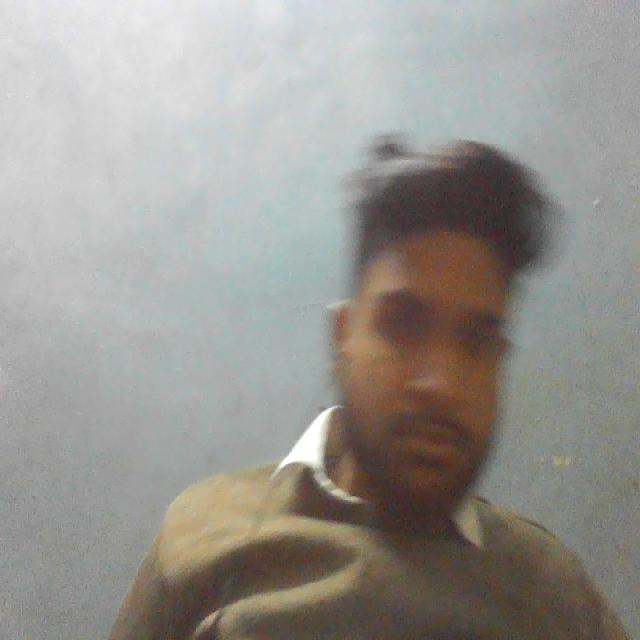real: (320, 124, 538, 536)
